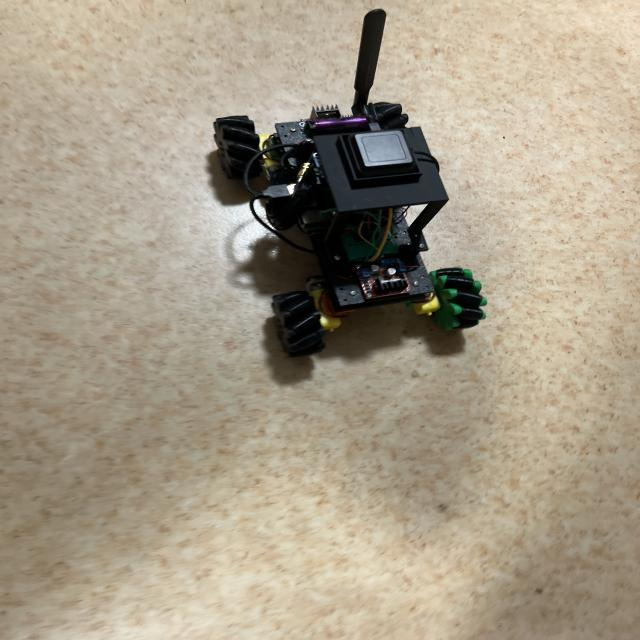robot: (214, 9, 487, 356)
